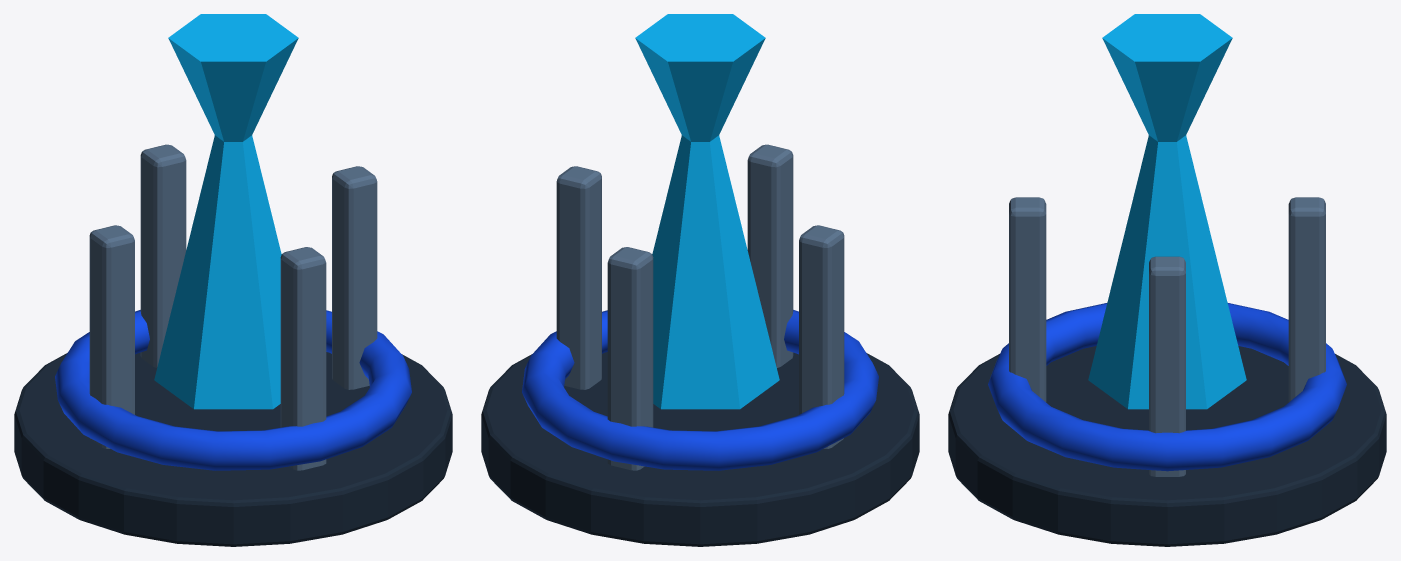
Rendered from capture_beacon.obj.
3 views of the same model, side by side, from view 1: azimuth 30°, elevation 25°; view 2: azimuth 150°, elevation 25°; view 3: azimuth 270°, elevation 25° (orthographic).
Visible parts, largest first — view 1: beacon_base_M_gunmetal, beacon_crystal_a_M_cyan, beacon_ring_M_azure, beacon_crystal_b_M_cyan, beacon_pylon_2_M_steel, beacon_pylon_1_M_steel, beacon_pylon_3_M_steel, beacon_pylon_0_M_steel; view 2: beacon_base_M_gunmetal, beacon_crystal_a_M_cyan, beacon_ring_M_azure, beacon_crystal_b_M_cyan, beacon_pylon_2_M_steel, beacon_pylon_3_M_steel, beacon_pylon_1_M_steel, beacon_pylon_0_M_steel; view 3: beacon_base_M_gunmetal, beacon_crystal_a_M_cyan, beacon_ring_M_azure, beacon_crystal_b_M_cyan, beacon_pylon_1_M_steel, beacon_pylon_3_M_steel, beacon_pylon_2_M_steel.
Part boxes in pixels (x1,y1,x2,y2): beacon_base_M_gunmetal: (14,352,452,546); beacon_crystal_a_M_cyan: (154,135,281,409); beacon_ring_M_azure: (55,310,411,470); beacon_crystal_b_M_cyan: (168,14,298,141); beacon_pylon_2_M_steel: (332,166,377,389); beacon_pylon_1_M_steel: (280,247,326,470); beacon_pylon_3_M_steel: (140,144,186,367); beacon_pylon_0_M_steel: (89,225,134,448); beacon_base_M_gunmetal: (481,352,919,546); beacon_crystal_a_M_cyan: (652,135,779,409); beacon_ring_M_azure: (522,310,878,470); beacon_crystal_b_M_cyan: (635,14,765,141); beacon_pylon_2_M_steel: (556,166,601,389); beacon_pylon_3_M_steel: (607,247,653,470); beacon_pylon_1_M_steel: (747,144,793,367); beacon_pylon_0_M_steel: (799,225,844,448); beacon_base_M_gunmetal: (948,346,1386,546); beacon_crystal_a_M_cyan: (1088,135,1246,409); beacon_ring_M_azure: (988,303,1346,471); beacon_crystal_b_M_cyan: (1102,14,1232,141); beacon_pylon_1_M_steel: (1009,197,1046,402); beacon_pylon_3_M_steel: (1288,197,1325,402); beacon_pylon_2_M_steel: (1149,256,1185,476).
Size of the model in its own units: 0.94 by 0.99 by 0.94.
